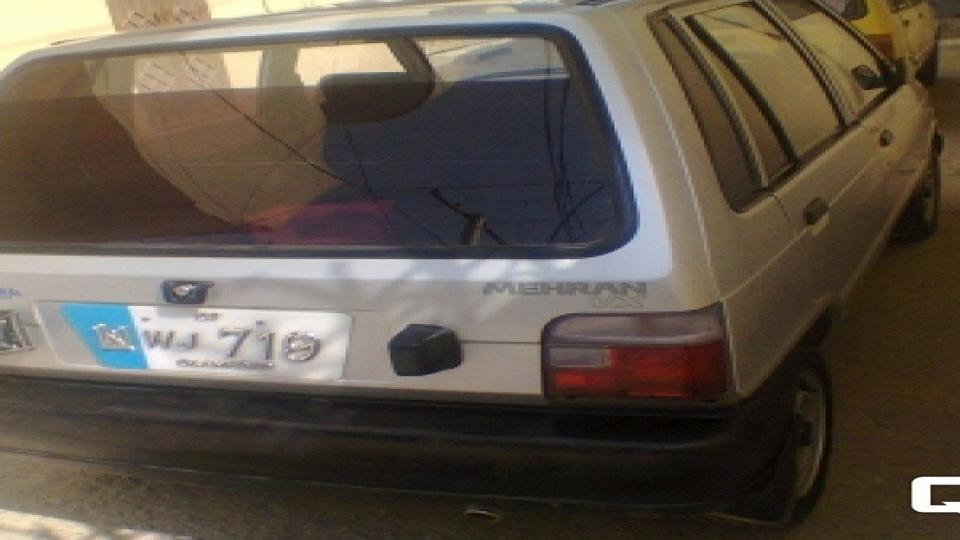NumberPlate: (76, 299, 335, 376)
